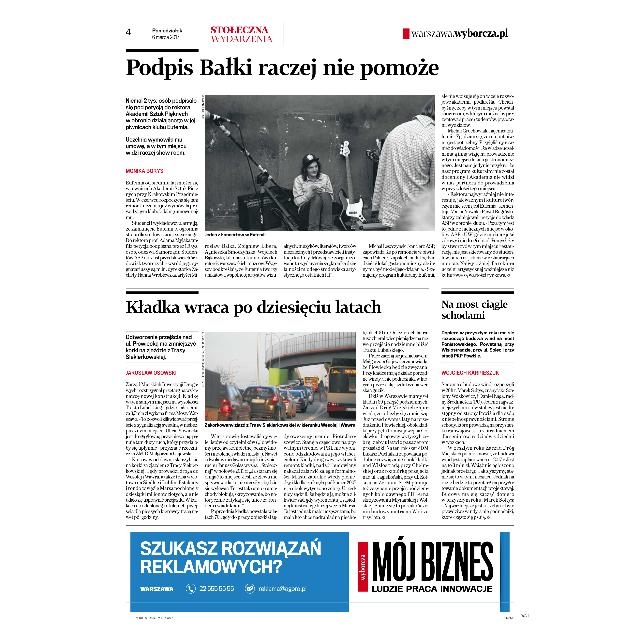article: (125, 48, 519, 284), (125, 292, 433, 522), (439, 290, 518, 520)
